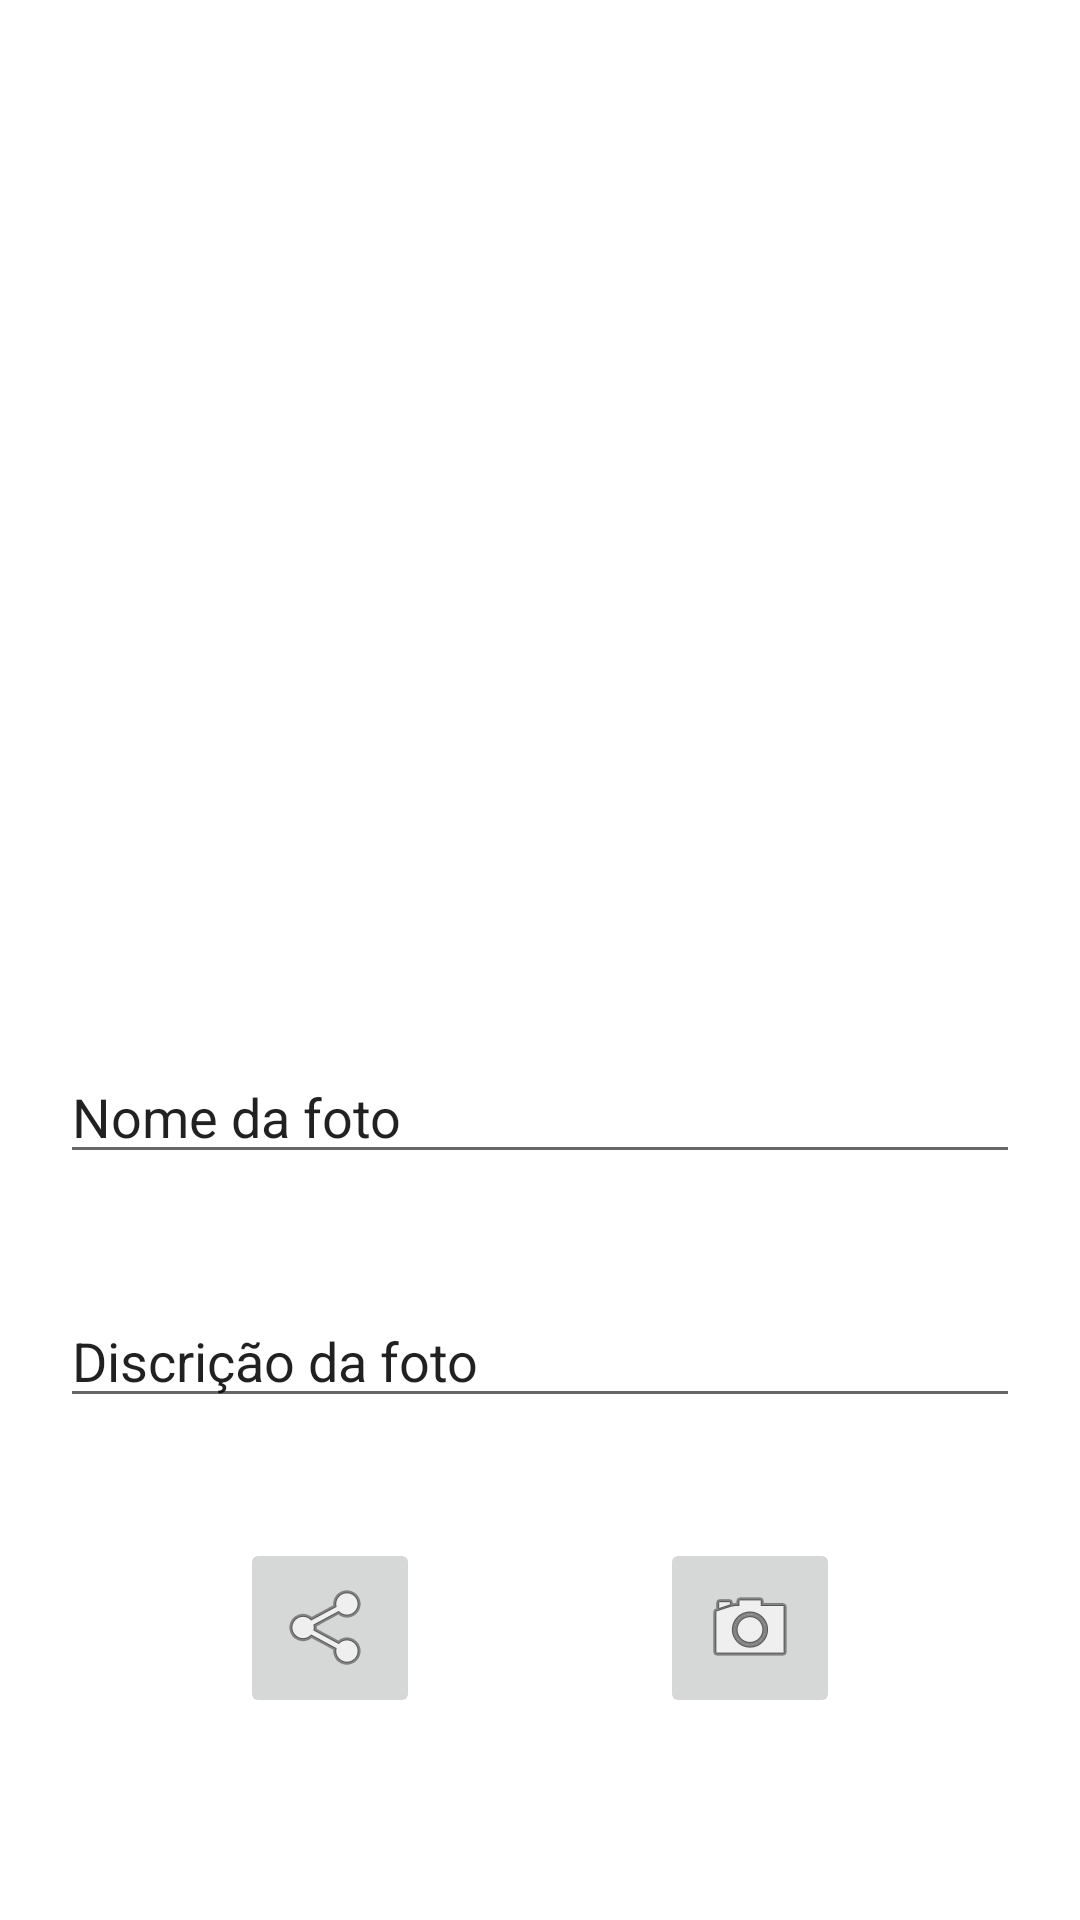

Icon click points for this 1080*1920 phone screenshot, format [x,y]:
camera: [750,1628]
share: [330,1628]
